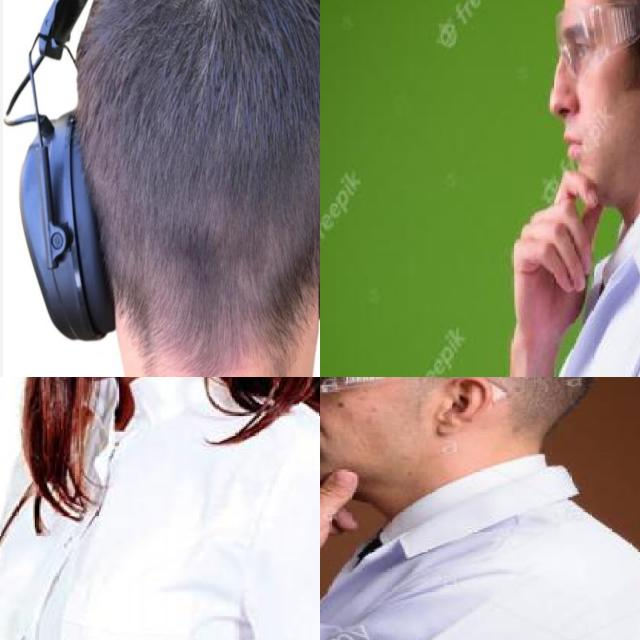Ear-protection: (13, 0, 320, 371)
No_Ear-Protection: (427, 377, 491, 446)
face_mask: (556, 0, 640, 76)
face_nomask: (535, 19, 614, 170), (320, 377, 362, 481)
glasses: (320, 377, 507, 404)
hand_noglove: (505, 174, 609, 330), (320, 429, 368, 558)
person: (0, 377, 320, 640), (320, 377, 640, 640), (484, 0, 640, 377)
